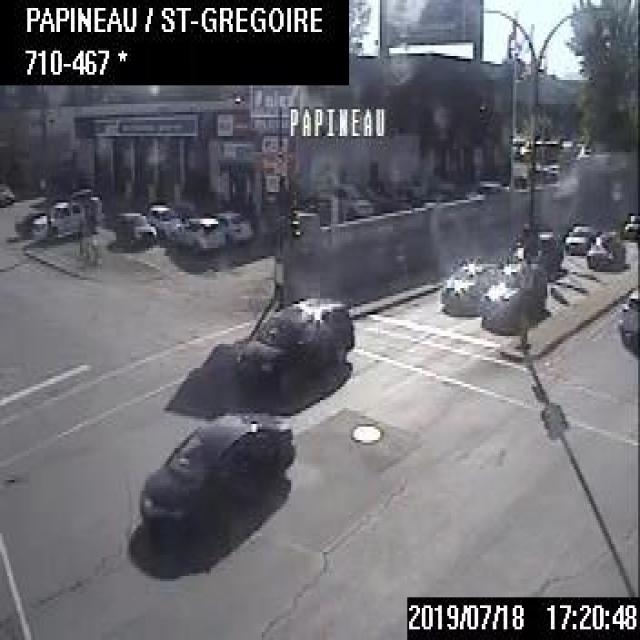vehicle: (140, 408, 293, 531), (235, 294, 352, 387), (480, 257, 542, 331), (438, 255, 498, 318), (512, 229, 564, 277), (326, 178, 374, 222), (30, 197, 86, 233), (172, 214, 223, 252), (584, 231, 624, 270), (117, 210, 155, 249), (616, 286, 638, 350), (214, 208, 252, 243), (147, 202, 179, 240), (563, 221, 595, 254), (622, 214, 636, 242)
